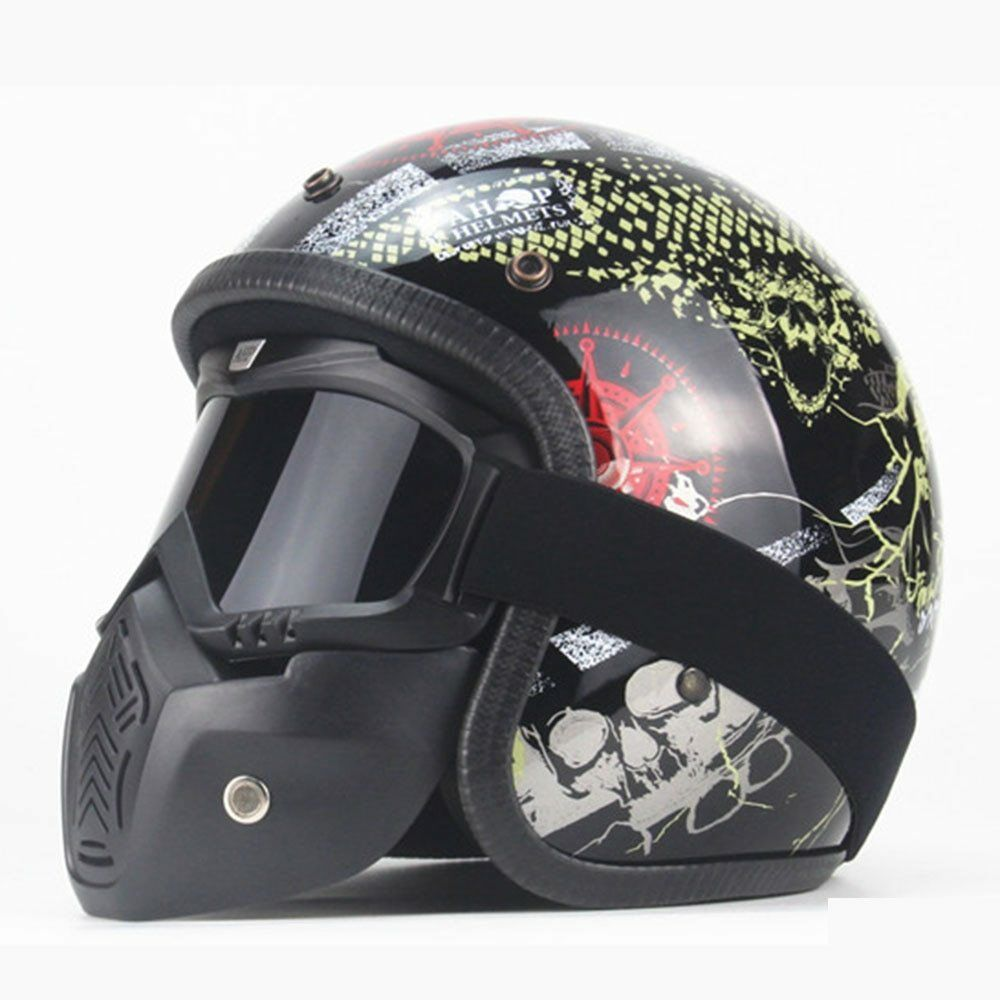with_helmet: (47, 119, 942, 905)
